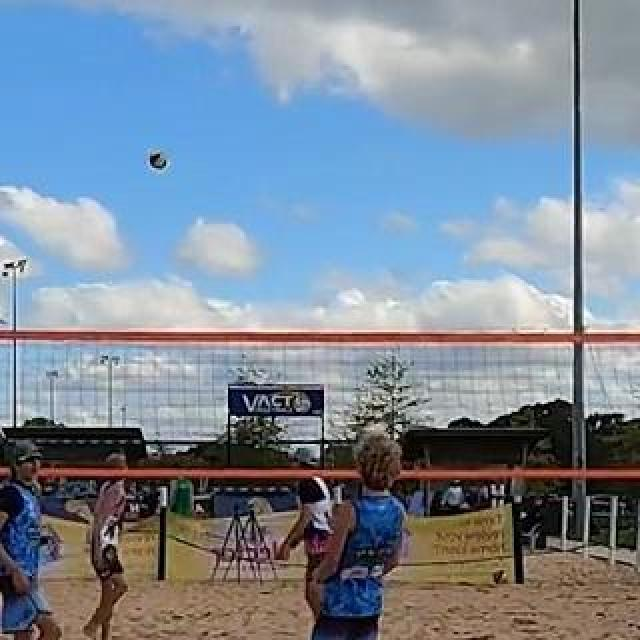volleyball: (149, 150, 169, 170), (492, 569, 508, 583)
